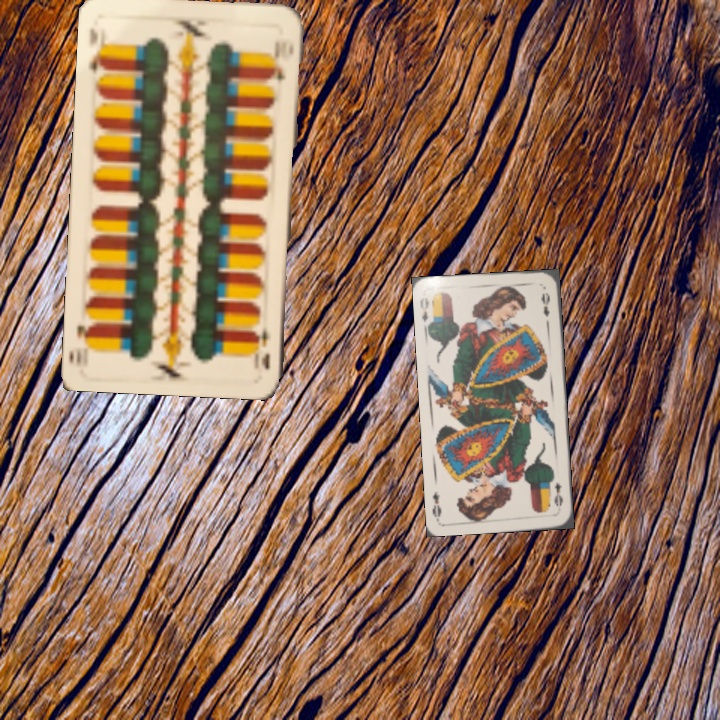E10: (85, 23, 110, 75), (255, 323, 273, 373)
EO: (416, 294, 437, 332), (550, 478, 566, 508)
